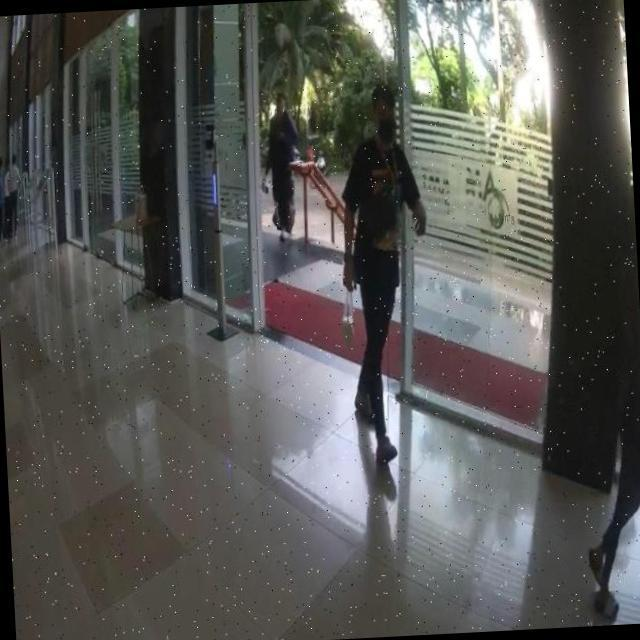person: (330, 82, 440, 469), (262, 92, 304, 242)
